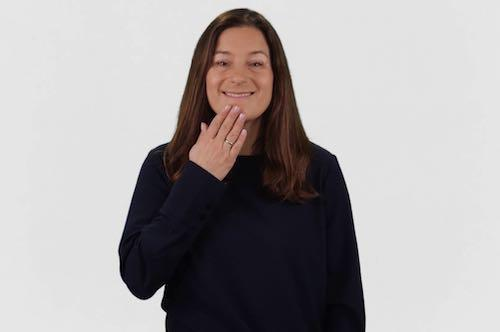Thank_you: (183, 100, 250, 190)
